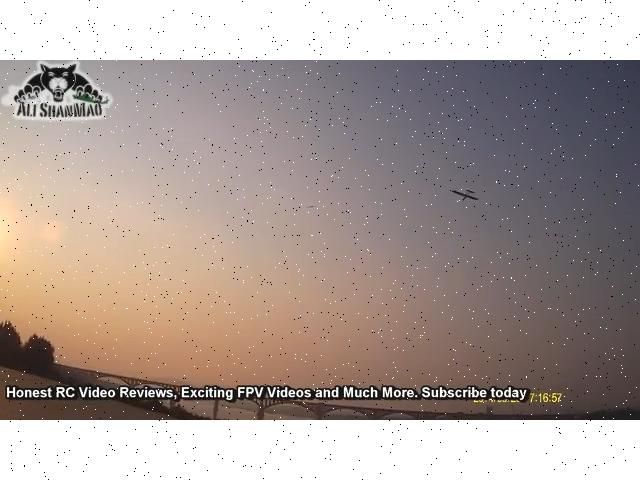Anti-Drone: (298, 194, 324, 218)
